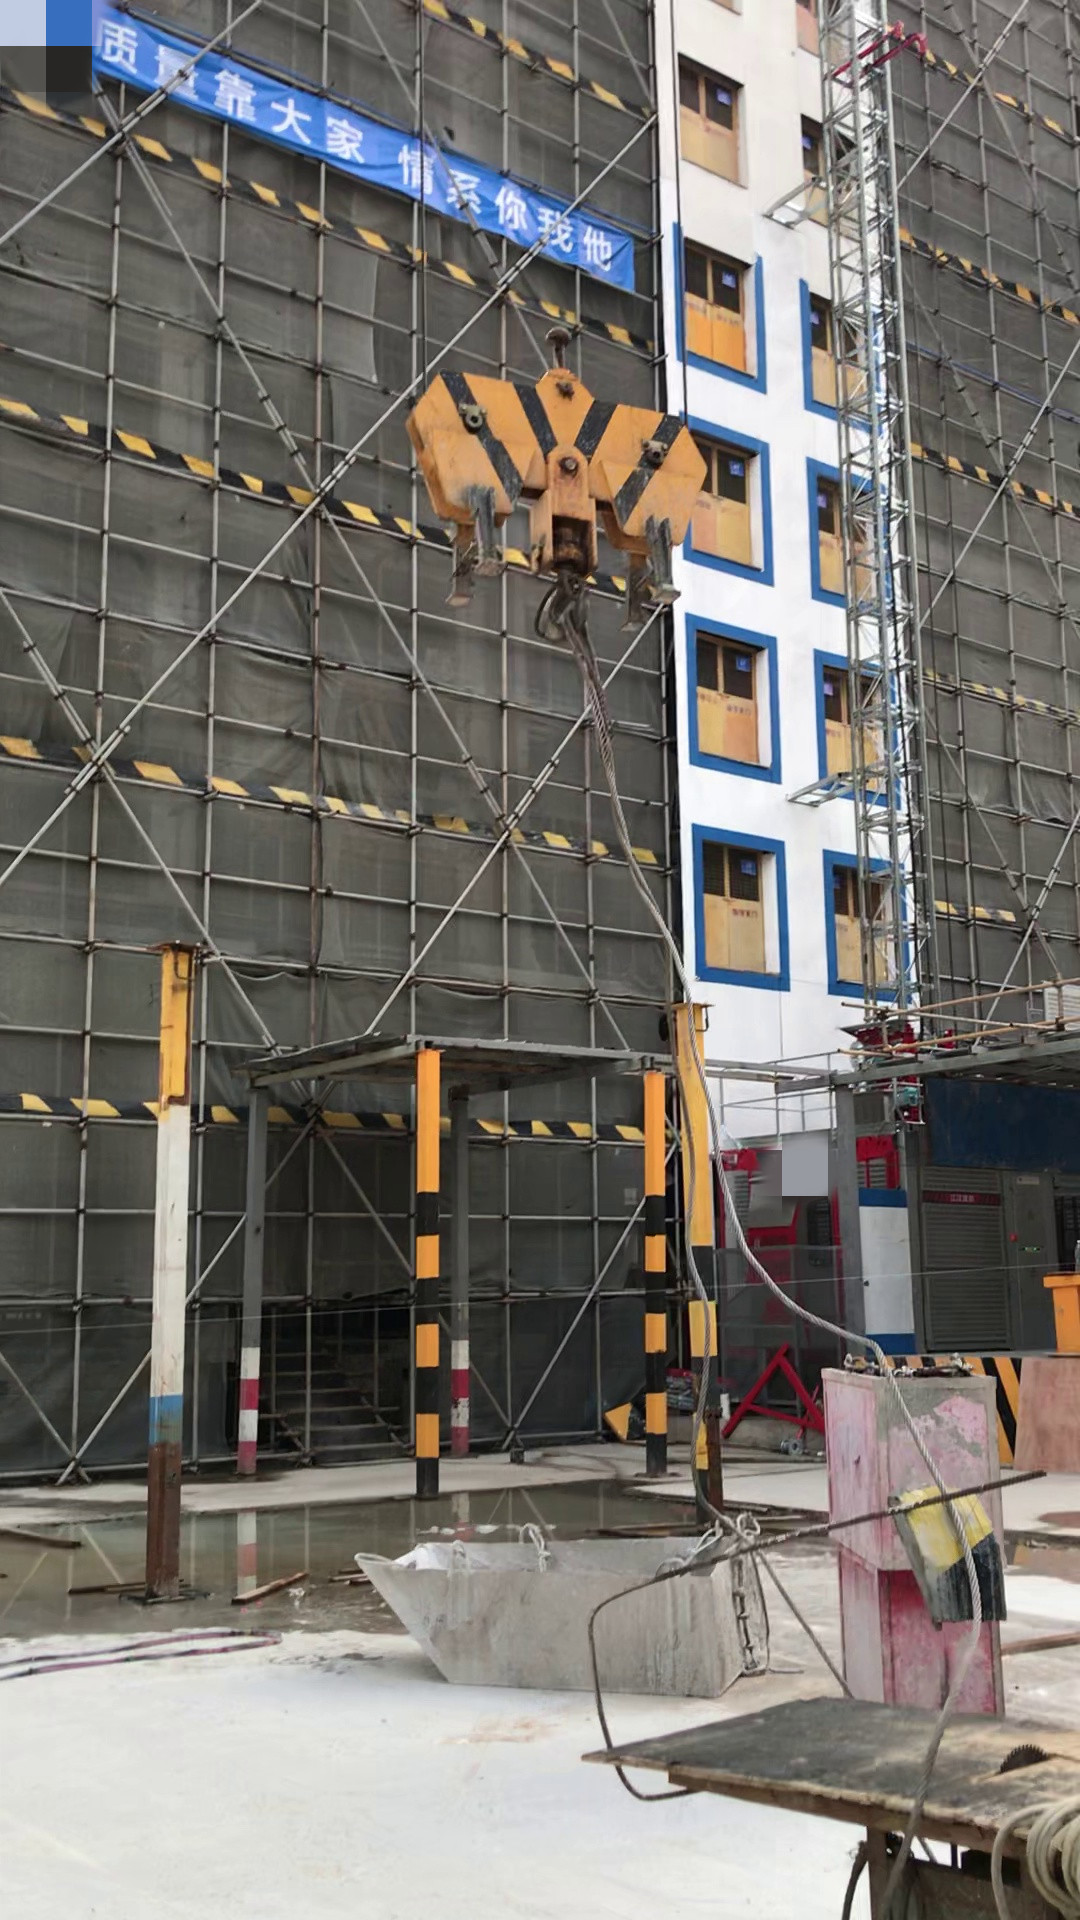hook: (407, 328, 709, 640)
hopper: (363, 1523, 767, 1698)
slogan: (57, 4, 640, 286)
